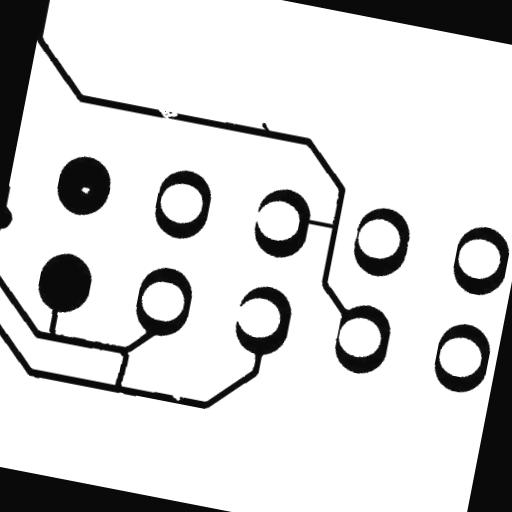mousebite: (163, 384, 190, 409)
open: (148, 96, 187, 130)
pin-hole: (72, 178, 98, 202)
short: (104, 340, 138, 398), (38, 296, 70, 348), (299, 210, 343, 238)
spur: (252, 114, 279, 140)
